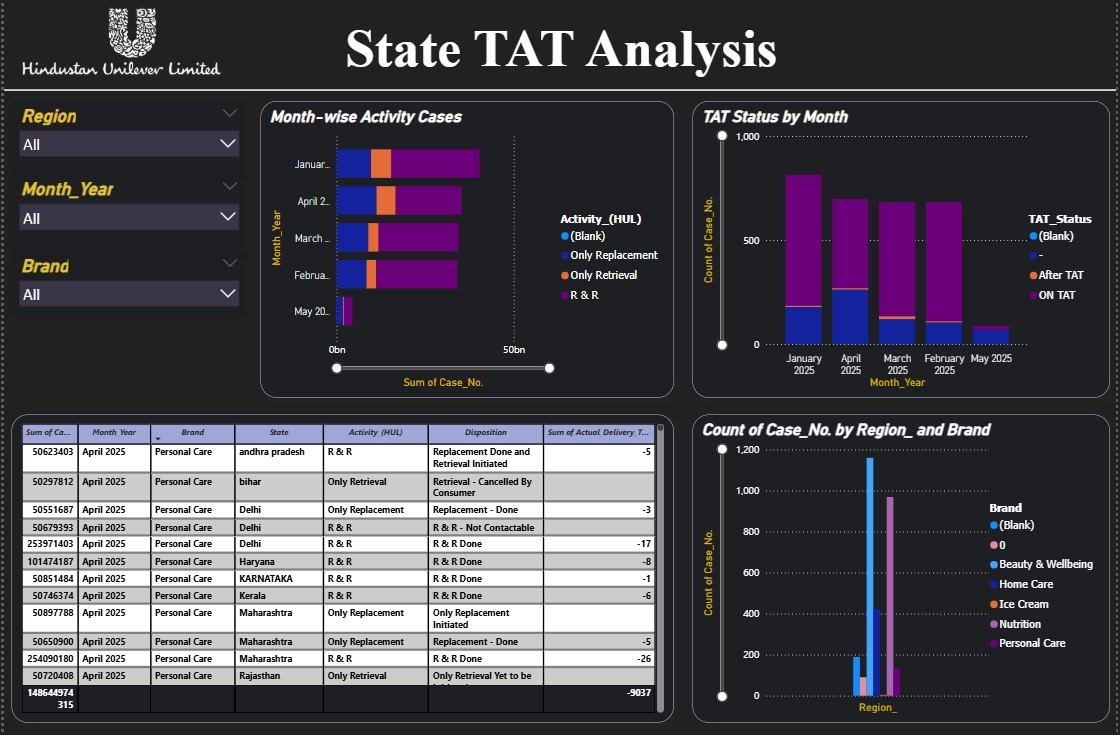

The dashboard page shown, as its layout file describes it:
{"tool":"powerbi","page":{"name":"Page 2","canvas":[1500,1000],"ordinal":1},"visuals":[{"type":"barChart","title":"Month-wise Activity Cases","fields":{"Category":["Replacement_&_Retrieval.Month_Year"],"Y":["Sum(Replacement_&_Retrieval.Case_No.)"],"Series":["Replacement_&_Retrieval.Activity_(HUL)"]},"box":[345,145,557.5,400],"z":0},{"type":"columnChart","title":"TAT Status by Month","fields":{"Category":["Replacement_&_Retrieval.Month_Year"],"Y":["CountNonNull(Replacement_&_Retrieval.Case_No.)"],"Series":["Replacement_&_Retrieval.TAT_Status"]},"box":[927.5,145,562.5,400],"z":2000},{"type":"tableEx","fields":{"Values":["Sum(Replacement_&_Retrieval.Case_No.)","Replacement_&_Retrieval.Month_Year","Replacement_&_Retrieval.Brand","Replacement_&_Retrieval.State","Replacement_&_Retrieval.Activity_(HUL)","Replacement_&_Retrieval.Disposition","Sum(Replacement_&_Retrieval.Actual_Delivery_TAT_(#_days))"]},"box":[10,567.5,892.5,415],"z":3000},{"type":"textbox","box":[455,27.5,620,95],"z":4000},{"type":"slicer","title":"Region","fields":{"Values":["Replacement_&_Retrieval.Region"]},"box":[10,145,317.5,105],"z":5000},{"type":"slicer","title":"Month-Year","fields":{"Values":["Replacement_&_Retrieval.Month_Year"]},"box":[10,245,317.5,115],"z":6000},{"type":"slicer","title":"Brand","fields":{"Values":["Replacement_&_Retrieval.Brand"]},"box":[10,347.5,317.5,90],"z":7000},{"type":"clusteredColumnChart","fields":{"Category":["Replacement_&_Retrieval.Region_"],"Series":["Replacement_&_Retrieval.Brand"],"Y":["CountNonNull(Replacement_&_Retrieval.Case_No.)"]},"box":[927.5,567.5,562.5,415],"z":8000},{"type":"shape","box":[0,122.5,1500,15],"z":9000},{"type":"image","box":[0,0,345,130],"z":10000}]}

Visuals, with their boxes in screenshot pixels (x1, y1, x2, y2), scaled from the page's 1500x1000 canvas onto the 1120x735 screenshot:
"Month-wise Activity Cases" barChart: detection(258, 107, 674, 401)
"TAT Status by Month" columnChart: detection(693, 107, 1113, 401)
tableEx - Sum(Replacement_&_Retrieval.Case_No.) x Replacement_&_Retrieval.Month_Year: detection(7, 417, 674, 722)
textbox: detection(340, 20, 803, 90)
"Region" slicer: detection(7, 107, 245, 184)
"Month-Year" slicer: detection(7, 180, 245, 265)
"Brand" slicer: detection(7, 255, 245, 322)
clusteredColumnChart - Replacement_&_Retrieval.Region_ x Replacement_&_Retrieval.Brand: detection(693, 417, 1113, 722)
shape: detection(0, 90, 1119, 101)
image: detection(0, 0, 258, 96)
